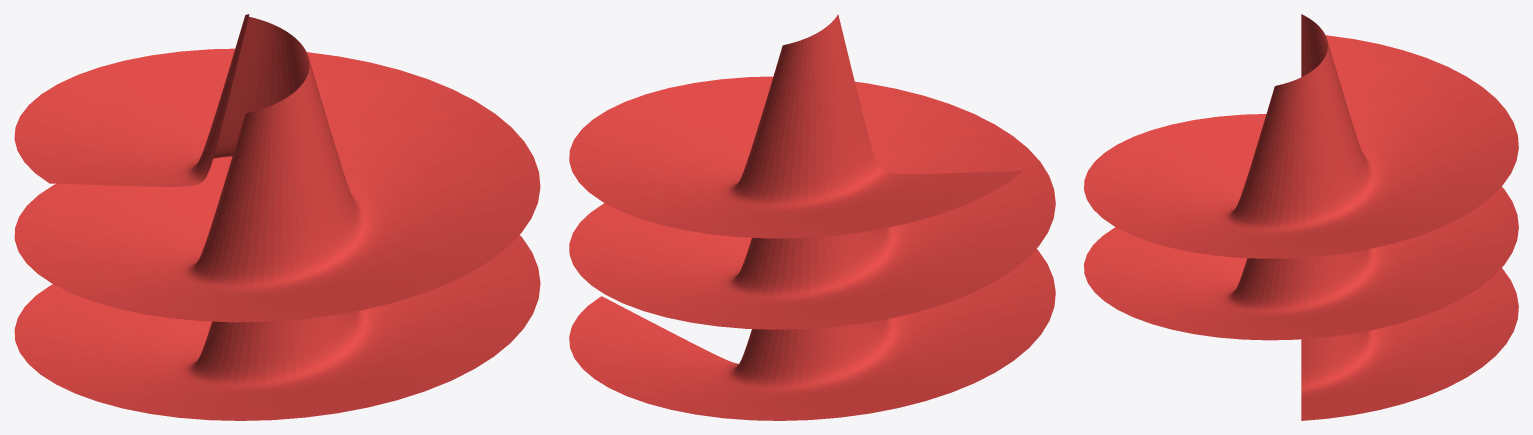
The model's file is hyperbola.glb.
The picture shows the model from 3 angles, left to right: view 1: azimuth 30°, elevation 25°; view 2: azimuth 150°, elevation 25°; view 3: azimuth 270°, elevation 25°; orthographic projection. The views are drawn at different scales.
Visible parts, largest first — view 1: XYZ Function.002; view 2: XYZ Function.002; view 3: XYZ Function.002.
Part boxes in pixels (box(x1,y1,x2,y2)): XYZ Function.002: box(14, 14, 540, 420); XYZ Function.002: box(569, 14, 1055, 420); XYZ Function.002: box(1084, 14, 1518, 420).
Bounding box in the file's own units: 3.76 × 3.19 × 3.76.
